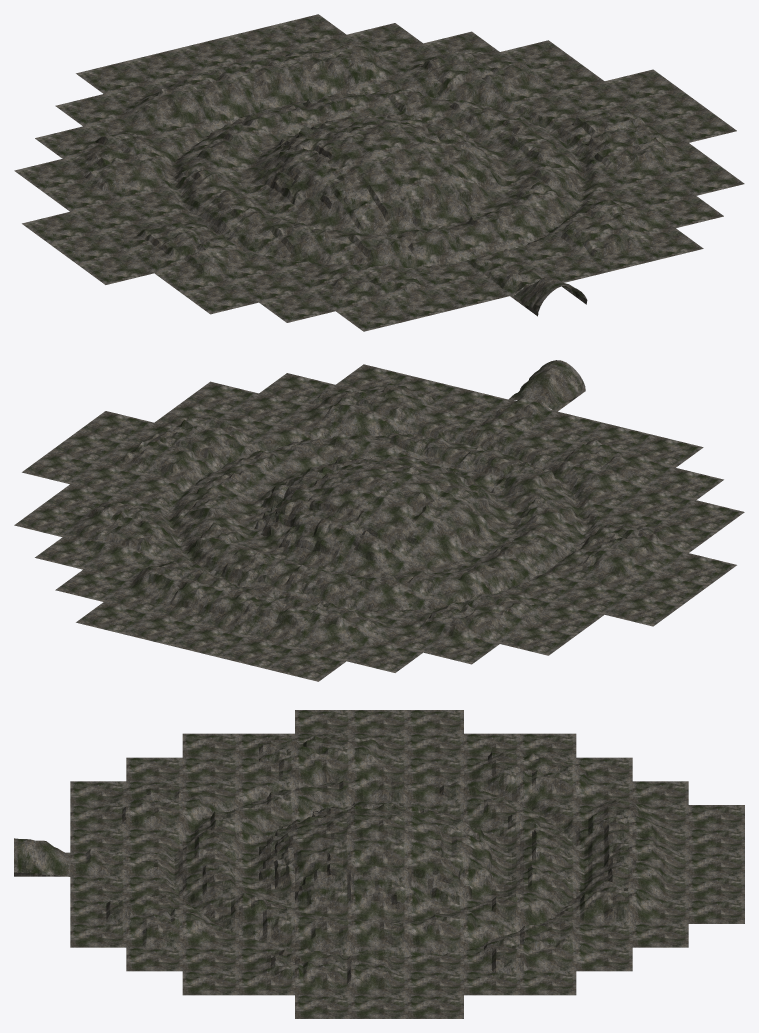
The model's file is underground_ceiling.fbx.
3 renders of one model, top to bottom at view 1: azimuth 30°, elevation 25°; view 2: azimuth 150°, elevation 25°; view 3: azimuth 270°, elevation 25°, orthographic.
Visible parts, largest first — view 1: underground_ceiling; view 2: underground_ceiling; view 3: underground_ceiling.
Boxes of the visible parts, x1,y1,x2,y2 form: underground_ceiling: (14,14,744,331); underground_ceiling: (14,360,744,681); underground_ceiling: (14,710,744,1018).
Bounding box in the file's own units: 4290 × 325 × 4290.
2 materials, 2 textured.
